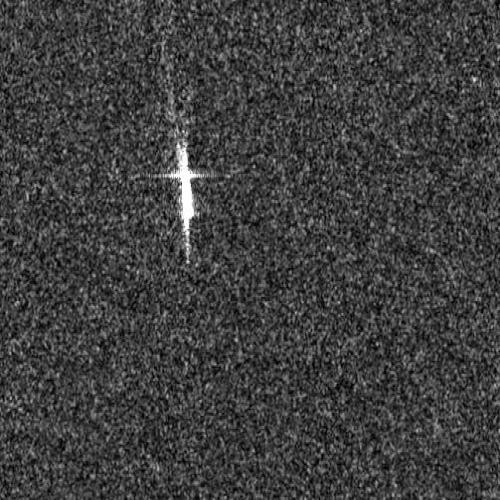ship: (175, 142, 194, 232)
